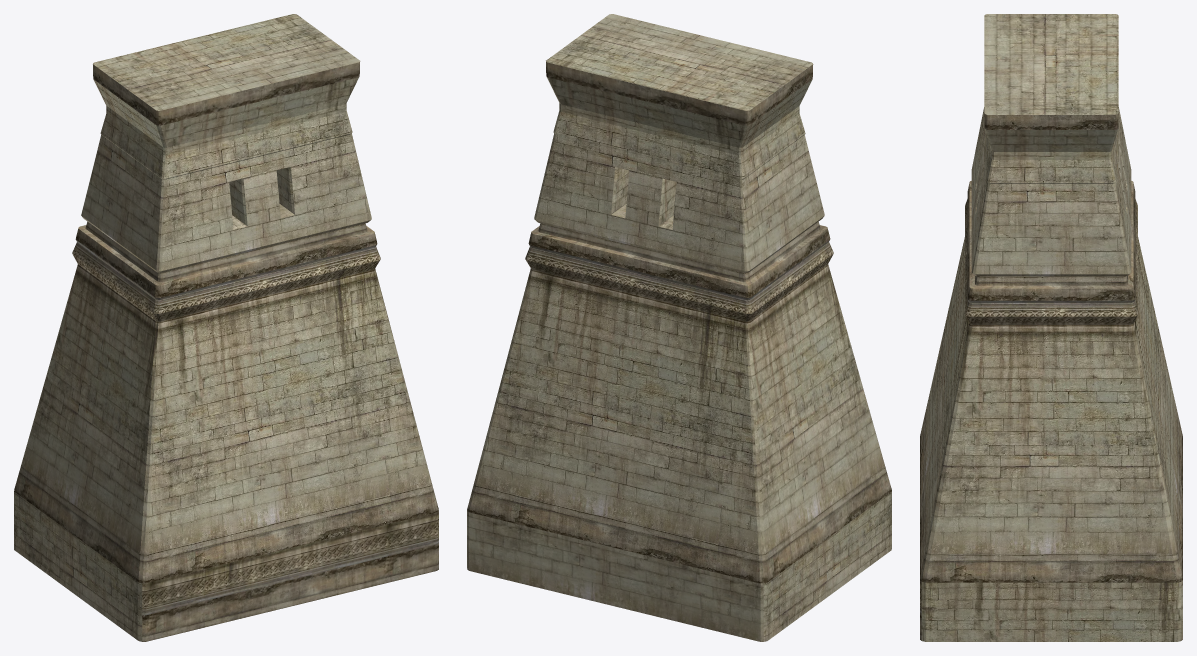
File: TW2_5_TOWNWALL_01_02-transformed.glb
3 views of the same model, side by side, from view 1: azimuth 30°, elevation 25°; view 2: azimuth 150°, elevation 25°; view 3: azimuth 270°, elevation 25° (orthographic).
Visible parts, largest first — view 1: default; view 2: default; view 3: default.
Part boxes in pixels (x1,y1,x2,y2): default: [14, 14, 438, 641]; default: [467, 14, 891, 641]; default: [920, 14, 1182, 641].
Size of the model in its own units: 18.29 by 28.89 by 13.68.
1 material, 1 textured.
